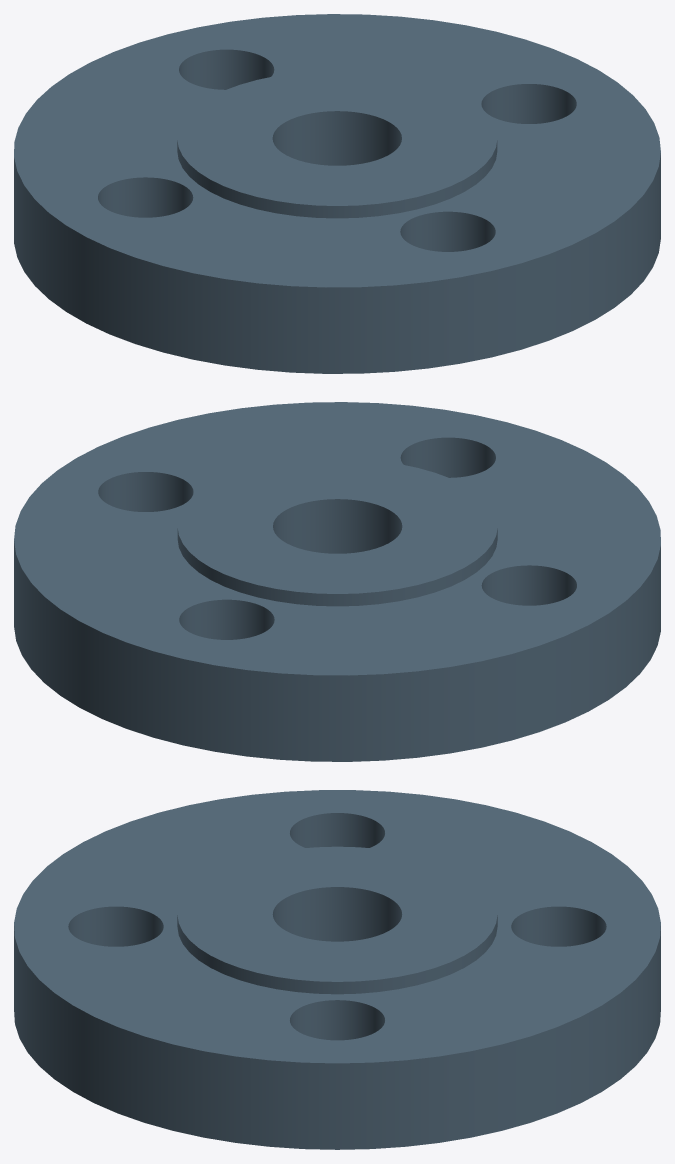
Rendered from flanec-ploskij-DN15-PN25.glb.
The picture shows the model from 3 angles, top to bottom: view 1: azimuth 30°, elevation 25°; view 2: azimuth 150°, elevation 25°; view 3: azimuth 270°, elevation 25°; orthographic projection.
Parts seen in each view (by area): view 1: Open CASCADE STEP translator 7.9 3; view 2: Open CASCADE STEP translator 7.9 3; view 3: Open CASCADE STEP translator 7.9 3.
Part boxes in pixels (left/top/right/bottom): Open CASCADE STEP translator 7.9 3: left=14, top=14, right=660, bottom=373; Open CASCADE STEP translator 7.9 3: left=14, top=402, right=660, bottom=761; Open CASCADE STEP translator 7.9 3: left=14, top=790, right=660, bottom=1149.
Size of the model in its own units: 94.93 by 16 by 94.97.
